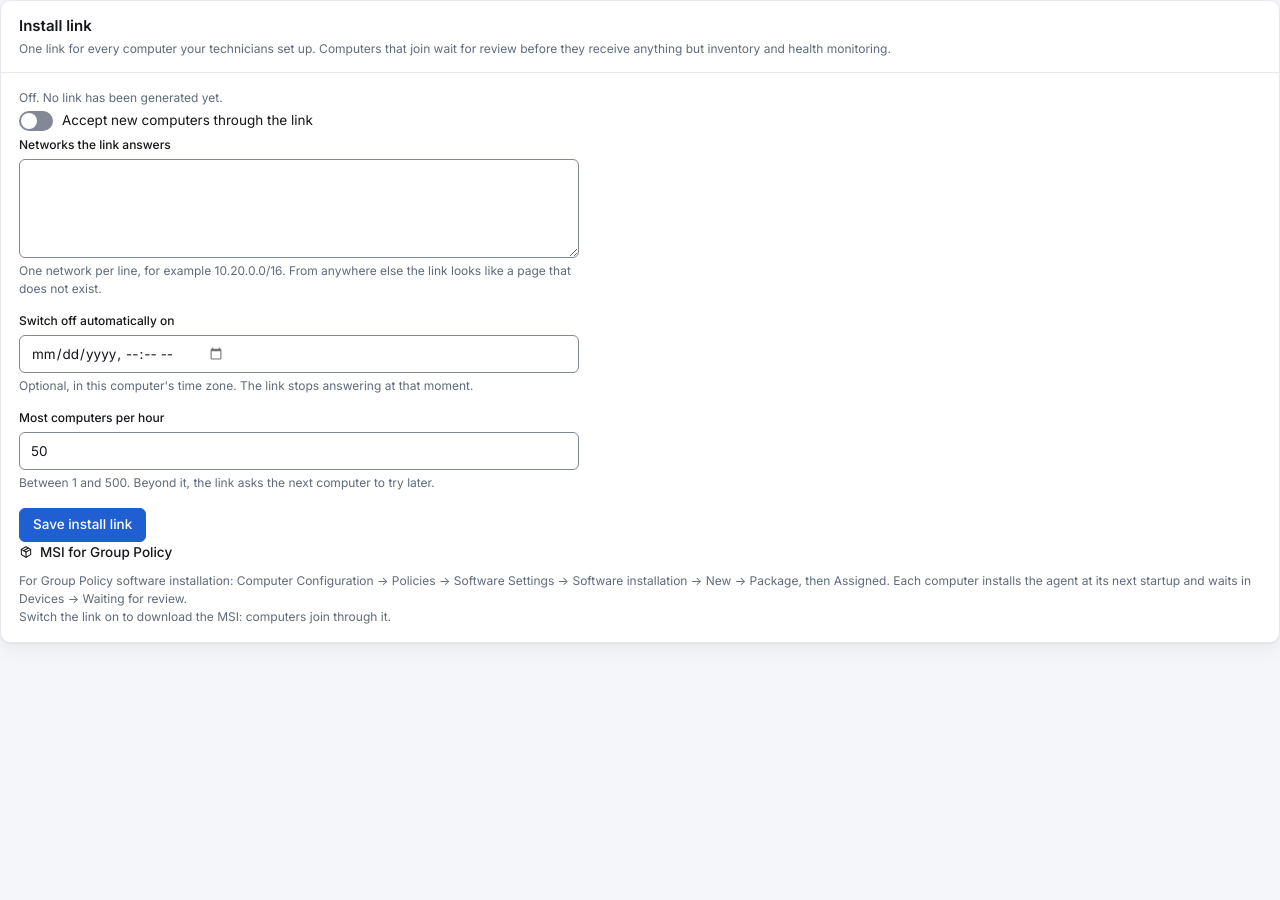
InstallLinkPanel › a refused save says why, in the server's words
Type "10.0.0.1/24" into the text box labelled "Networks the link answers" at (299, 208), box [19, 159, 579, 258]
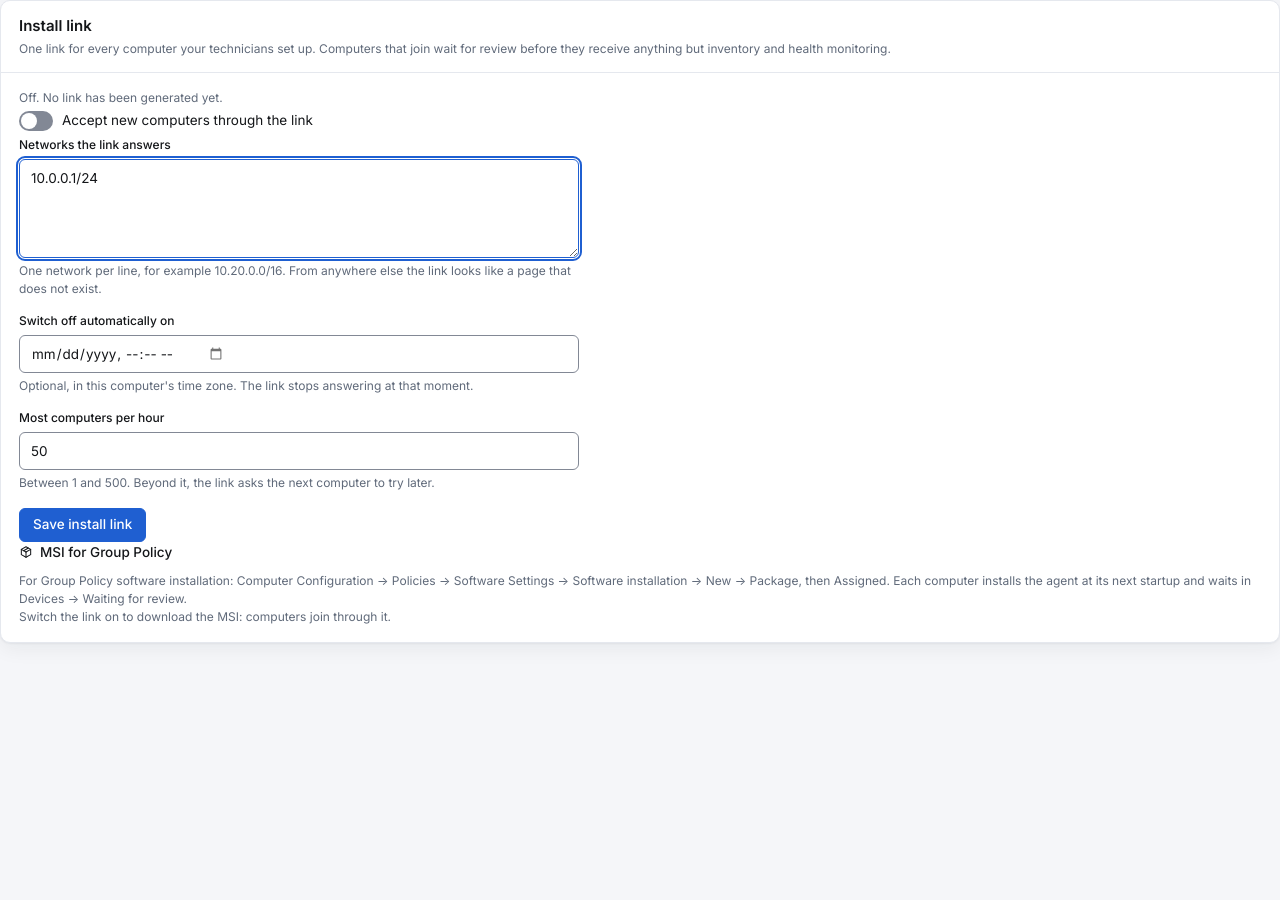
Click the button "Save install link" at (83, 525), box [19, 508, 146, 542]
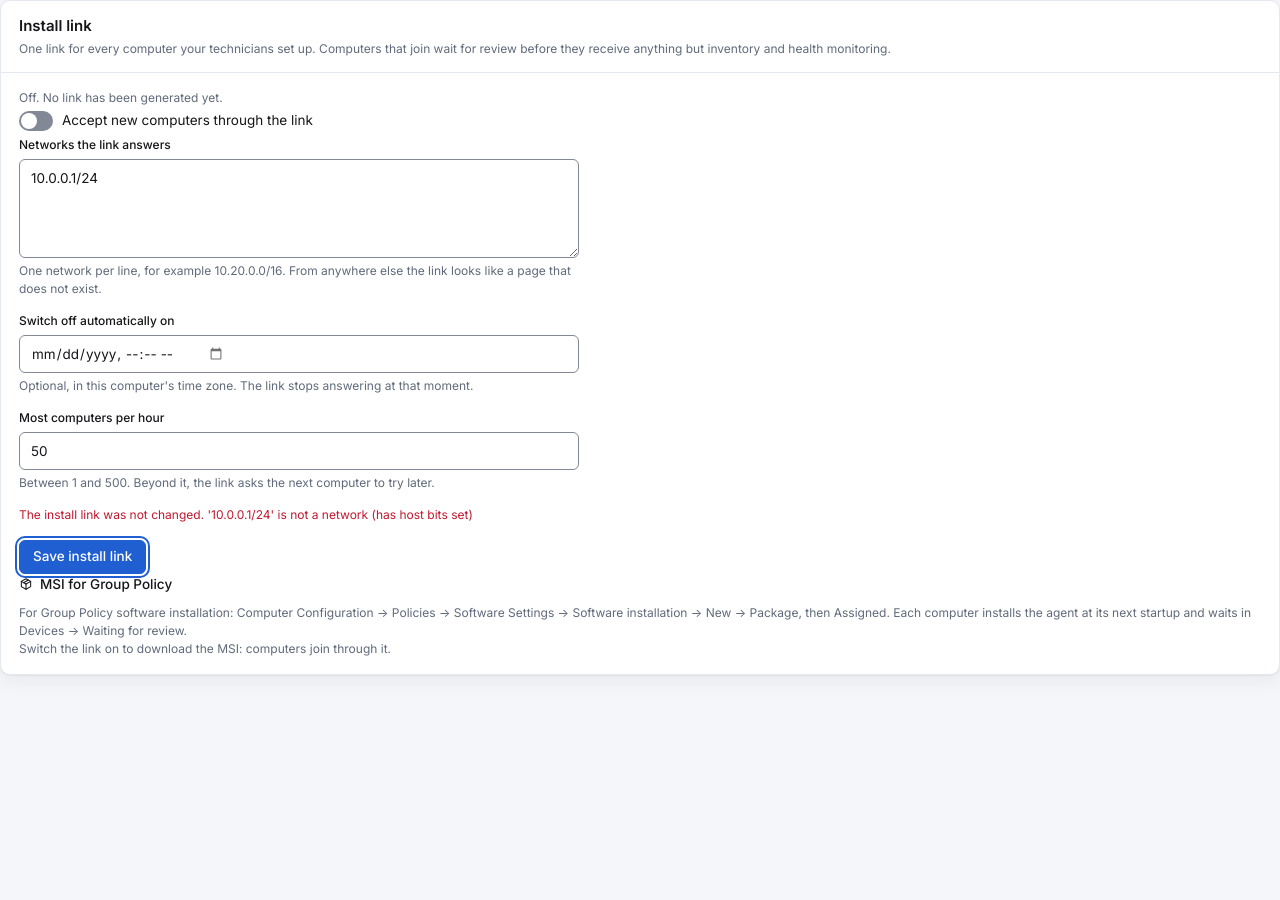
Check: the message shows "is not a network", box [19, 507, 473, 522]
